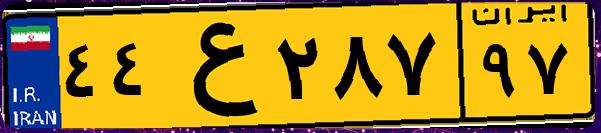2: (270, 28, 330, 110)
4: (57, 26, 110, 100), (110, 28, 158, 98)
7: (385, 28, 445, 110), (525, 38, 570, 115)
8: (330, 28, 385, 110)
9: (475, 38, 525, 113)
ع: (158, 12, 270, 120)
